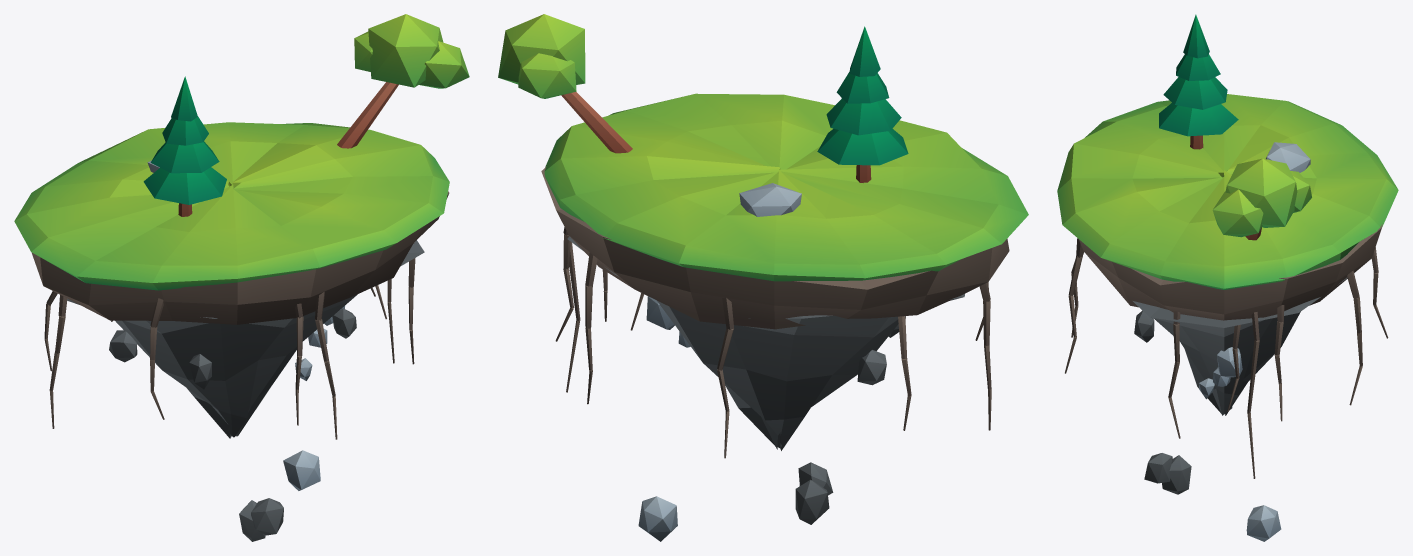
File: floating_isle_c.glb
3 renders of one model, left to right at view 1: azimuth 30°, elevation 25°; view 2: azimuth 150°, elevation 25°; view 3: azimuth 270°, elevation 25°, orthographic. The views are drawn at different scales.
Parts seen in each view (by area): view 1: floating_isle_c; view 2: floating_isle_c; view 3: floating_isle_c.
Part boxes in pixels (<box>): floating_isle_c: <box>14,14,469,541</box>; floating_isle_c: <box>498,14,1028,541</box>; floating_isle_c: <box>1057,14,1398,541</box>.
Size of the model in its own units: 17.65 by 18.37 by 12.4.
Materials: 1 (1 with a texture image).
